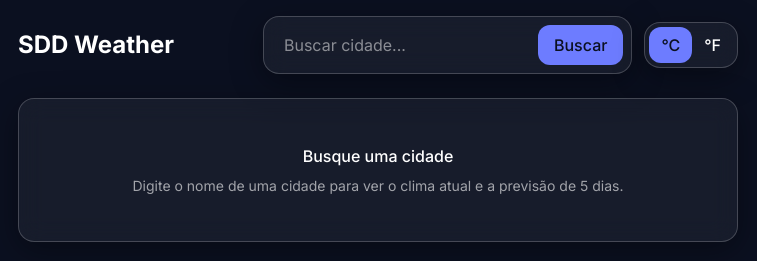
Test: App › mostra o estado empty quando a busca não retorna cidades
The width and height of the screenshot is (757, 261).
Step 1. Type "cidade inexistente" into the field labelled "Buscar cidade" → (401, 45), box left=272, top=25, right=530, bottom=65
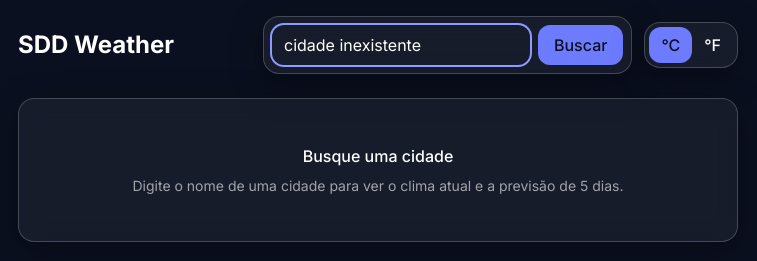
Step 2. Click the button "Buscar" → (581, 45), box left=538, top=25, right=623, bottom=65
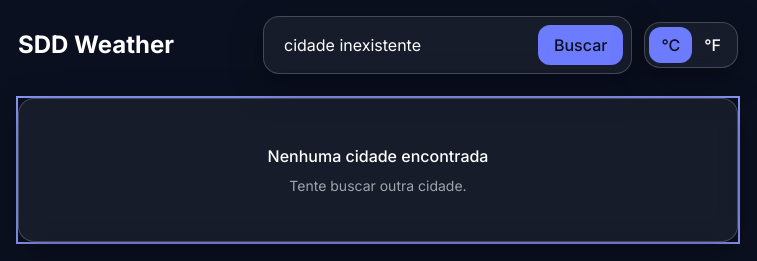
Result: the text "Nenhuma cidade encontrada" is shown at left=268, top=144, right=488, bottom=168
